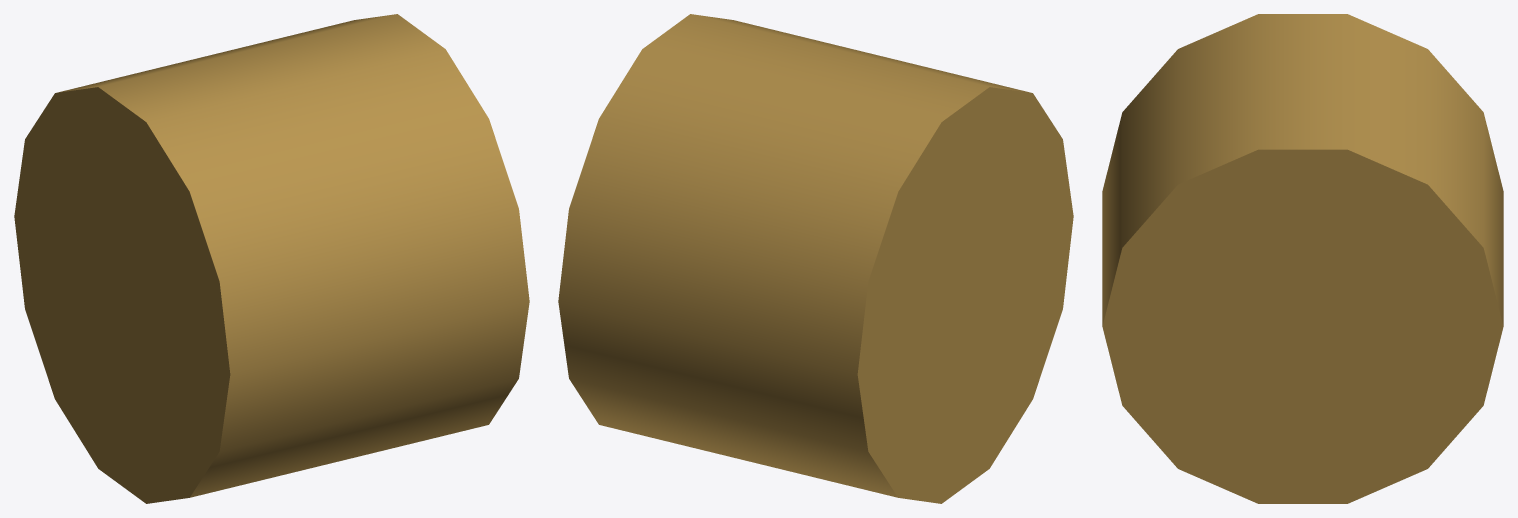
File: scatter1.fbx
3 renders of one model, left to right at view 1: azimuth 30°, elevation 25°; view 2: azimuth 150°, elevation 25°; view 3: azimuth 270°, elevation 25°, orthographic. The views are drawn at different scales.
Visible parts, largest first — view 1: a1000/600/scatter1; view 2: a1000/600/scatter1; view 3: a1000/600/scatter1.
Boxes of the visible parts, <box> form: a1000/600/scatter1: <box>14,14,529,503</box>; a1000/600/scatter1: <box>558,14,1073,503</box>; a1000/600/scatter1: <box>1102,14,1503,503</box>.
Bounding box in the file's own units: 1.2 × 1.46 × 1.5.
